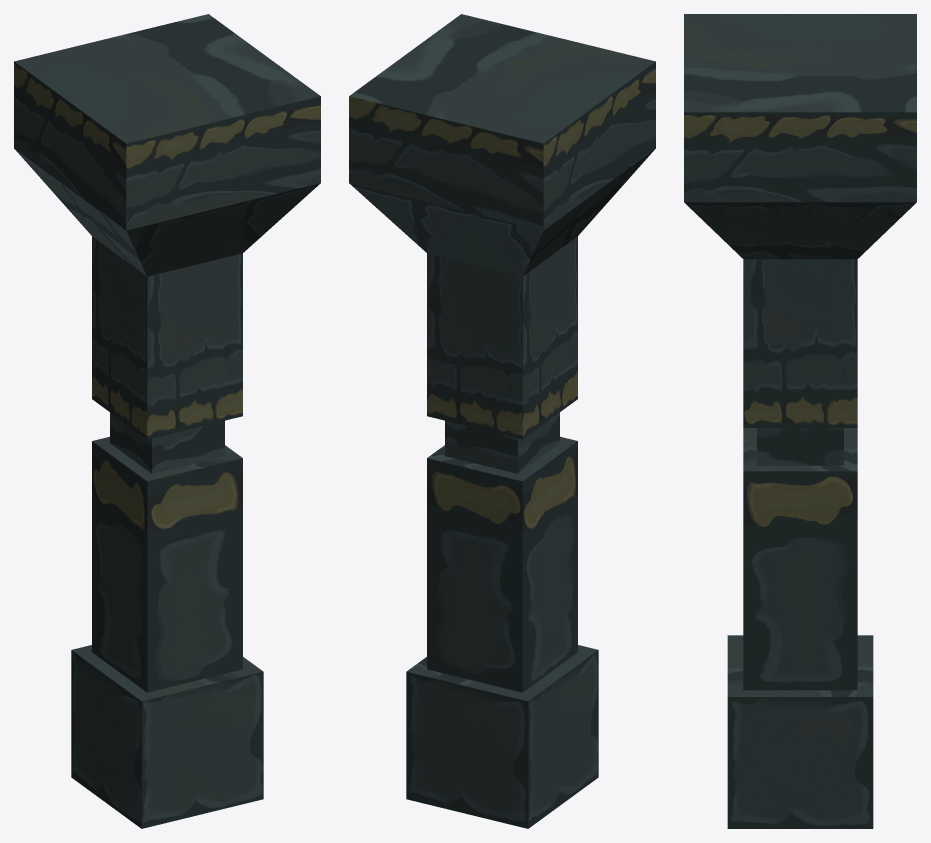
The model's file is pillar.fbx.
3 renders of one model, left to right at view 1: azimuth 30°, elevation 25°; view 2: azimuth 150°, elevation 25°; view 3: azimuth 270°, elevation 25°, orthographic. The views are drawn at different scales.
Parts seen in each view (by area): view 1: Cube; view 2: Cube; view 3: Cube.
Boxes of the visible parts, left/top/right/bottom form: Cube: left=14, top=14, right=320, bottom=828; Cube: left=349, top=14, right=655, bottom=828; Cube: left=684, top=14, right=916, bottom=828.
Size of the model in its own units: 319 by 1112 by 319.
1 material, 1 textured.
